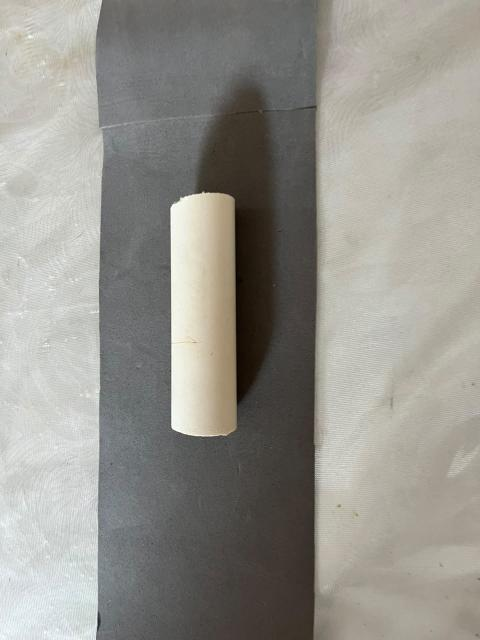PVC: (147, 184, 270, 469)
